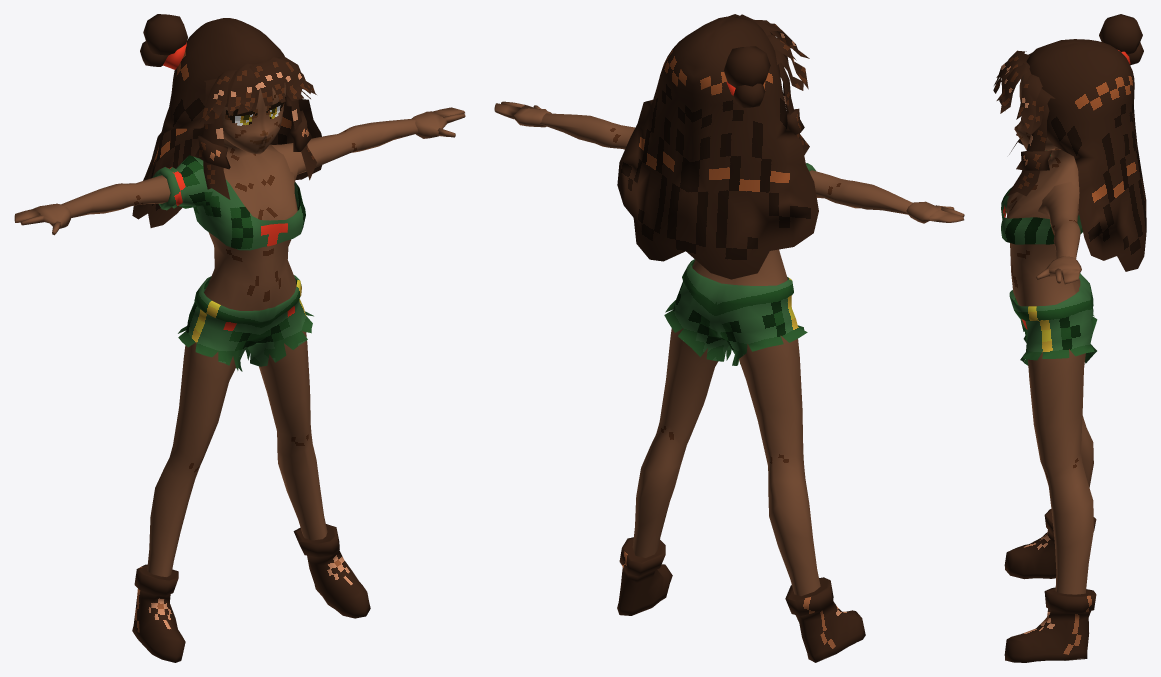
The model's file is miskha LOW POLY FINISHED.glb.
3 renders of one model, left to right at view 1: azimuth 30°, elevation 25°; view 2: azimuth 150°, elevation 25°; view 3: azimuth 270°, elevation 25°, orthographic. The views are drawn at different scales.
Parts seen in each view (by area): view 1: Body_Plane, Sphere.001, Shoes_Cube.001, Body.001_Plane.003, Arms_Plane.001, Body.003_Plane.004, Body.004_Plane.006, Arms.001_Plane.005, Sphere.006, Sphere.008, Plane_Plane.007, Cube.001_Cube.002 (+3 smaller); view 2: Sphere.001, Body_Plane, Body.001_Plane.003, Shoes_Cube.001, Arms_Plane.001, Cube.001_Cube.002, Cube.003_Cube.004; view 3: Sphere.001, Body_Plane, Shoes_Cube.001, Body.001_Plane.003, Arms_Plane.001, Body.003_Plane.004, Cube.001_Cube.002, Sphere.006, Plane_Plane.007, Sphere.007, Sphere.008, Plane.001_Plane.008 (+2 smaller).
Part boxes in pixels (box(x1,y1,x2,y2)): Body_Plane: box(147, 138, 327, 576); Sphere.001: box(132, 18, 322, 227); Shoes_Cube.001: box(132, 524, 370, 662); Body.001_Plane.003: box(178, 275, 313, 371); Arms_Plane.001: box(61, 118, 418, 218); Body.003_Plane.004: box(193, 158, 305, 250); Body.004_Plane.006: box(221, 83, 285, 154); Arms.001_Plane.005: box(152, 155, 212, 210); Sphere.006: box(204, 59, 310, 124); Sphere.008: box(227, 57, 316, 116); Plane_Plane.007: box(203, 99, 316, 199); Cube.001_Cube.002: box(143, 14, 187, 55); Sphere.001: box(617, 16, 818, 279); Body_Plane: box(632, 249, 820, 596); Body.001_Plane.003: box(664, 259, 807, 365); Shoes_Cube.001: box(617, 537, 865, 662); Arms_Plane.001: box(540, 113, 912, 214); Cube.001_Cube.002: box(724, 46, 770, 87); Cube.003_Cube.004: box(514, 104, 941, 223); Sphere.001: box(1026, 39, 1146, 271); Body_Plane: box(1006, 148, 1093, 594); Shoes_Cube.001: box(1004, 509, 1096, 662); Body.001_Plane.003: box(1009, 273, 1097, 365); Arms_Plane.001: box(1038, 182, 1080, 258); Body.003_Plane.004: box(1001, 154, 1082, 244); Cube.001_Cube.002: box(1099, 14, 1142, 54); Sphere.006: box(993, 52, 1055, 134); Plane_Plane.007: box(1007, 104, 1049, 196); Sphere.007: box(1016, 52, 1042, 134); Sphere.008: box(996, 50, 1027, 113); Plane.001_Plane.008: box(1016, 117, 1052, 170).
Bounding box in the file's own units: 1.29 × 1.63 × 0.389.
Materials: 2 (1 with a texture image).
